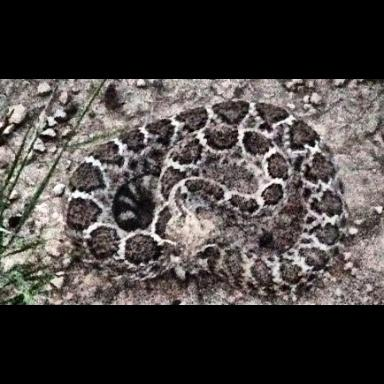snake: (0, 79, 384, 307)
